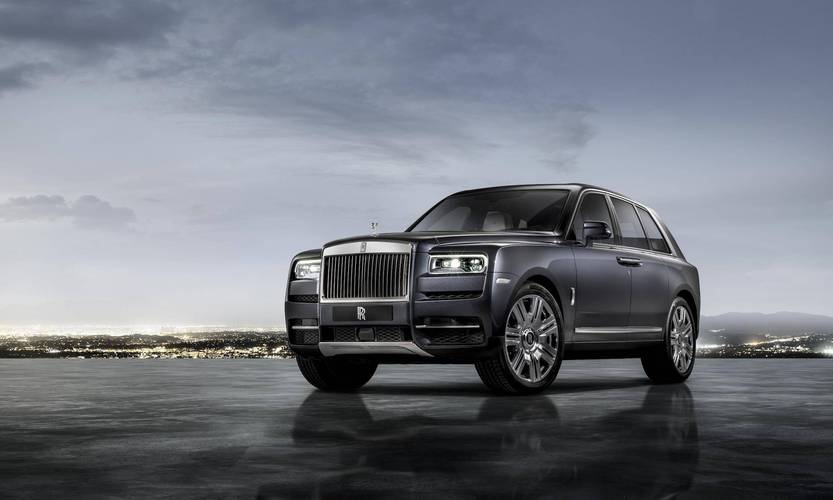汽车: (281, 182, 703, 389)
